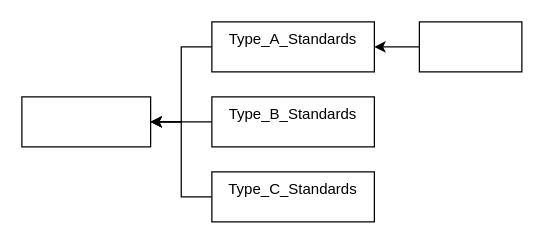
This 544x244 diagram has some shape labels left out. The centre of each missing label's shape, as x and y in pixels:
ISO12100: (470,46)
Safety_Standards: (86,121)
